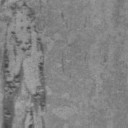oxide scale of plate system: (0, 0, 48, 128)
